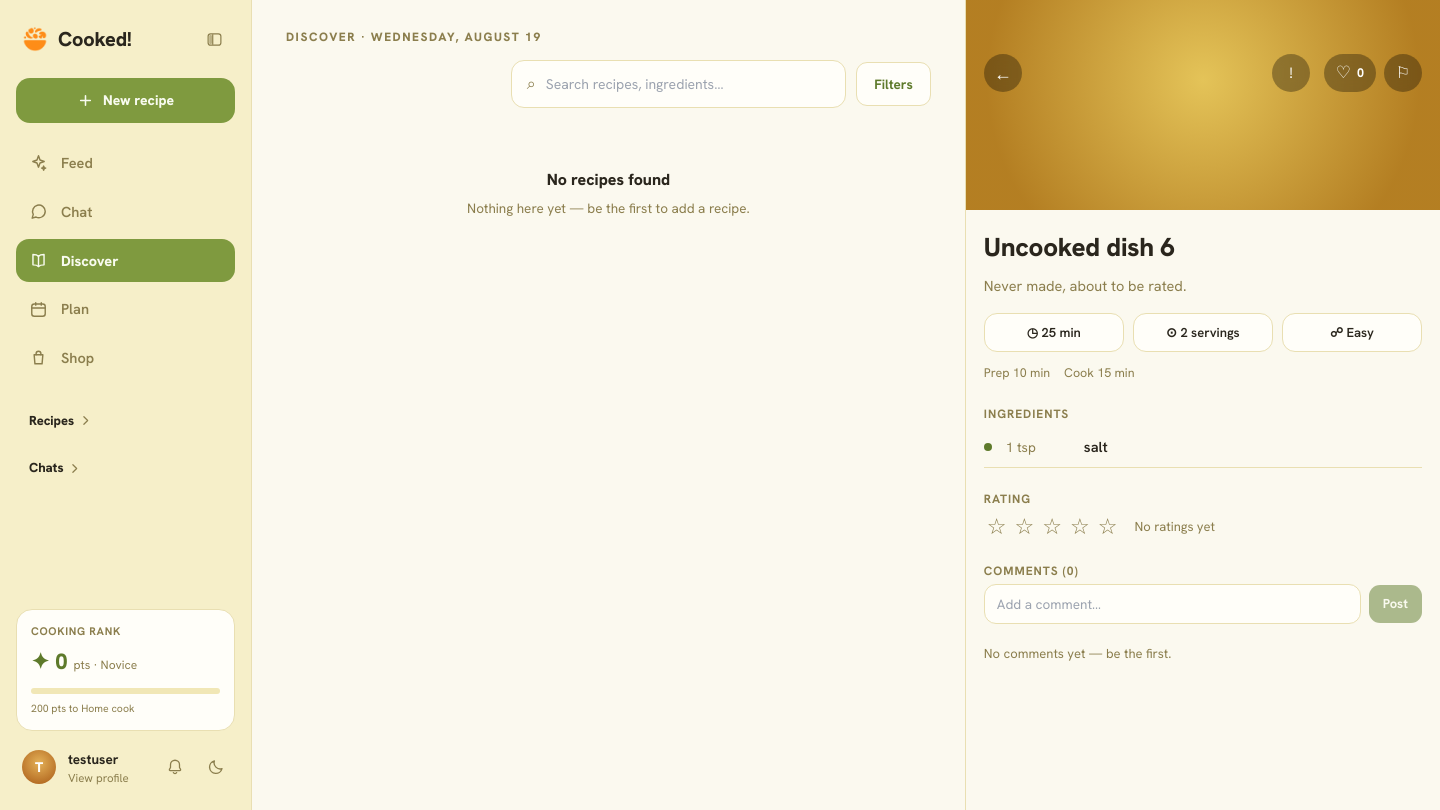
rating a recipe with no cook behind it › says the cook survived, and retries only the rating, when the rating fails after it
Expected: the text "No ratings yet" is shown, [1134, 517, 1215, 536]
Step 1. Click the button named "Rate 4 out of 5" → {"x": 1080, "y": 527}, box [1067, 514, 1093, 540]
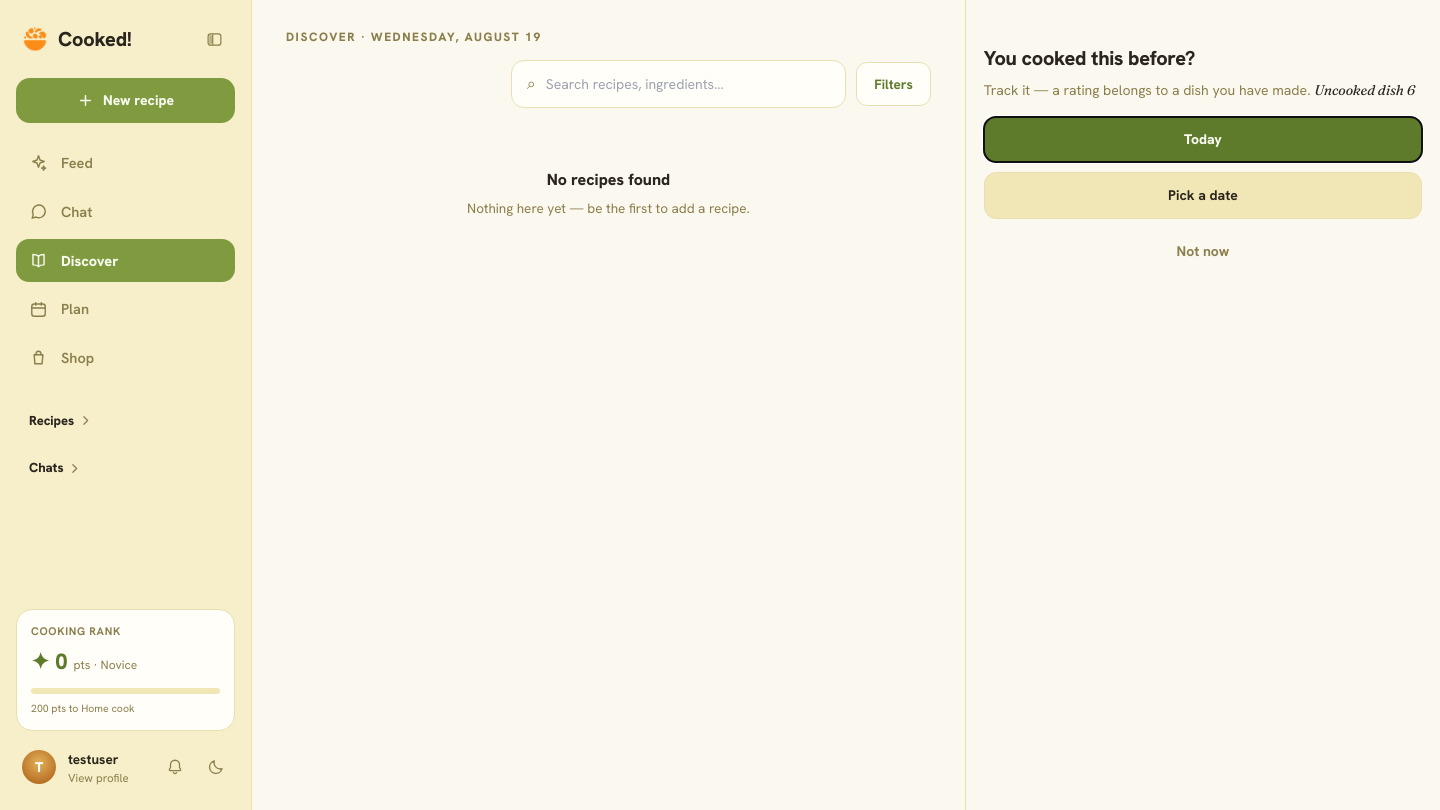
Step 2. Click the button "Today" → {"x": 1203, "y": 140}, box [984, 117, 1422, 162]
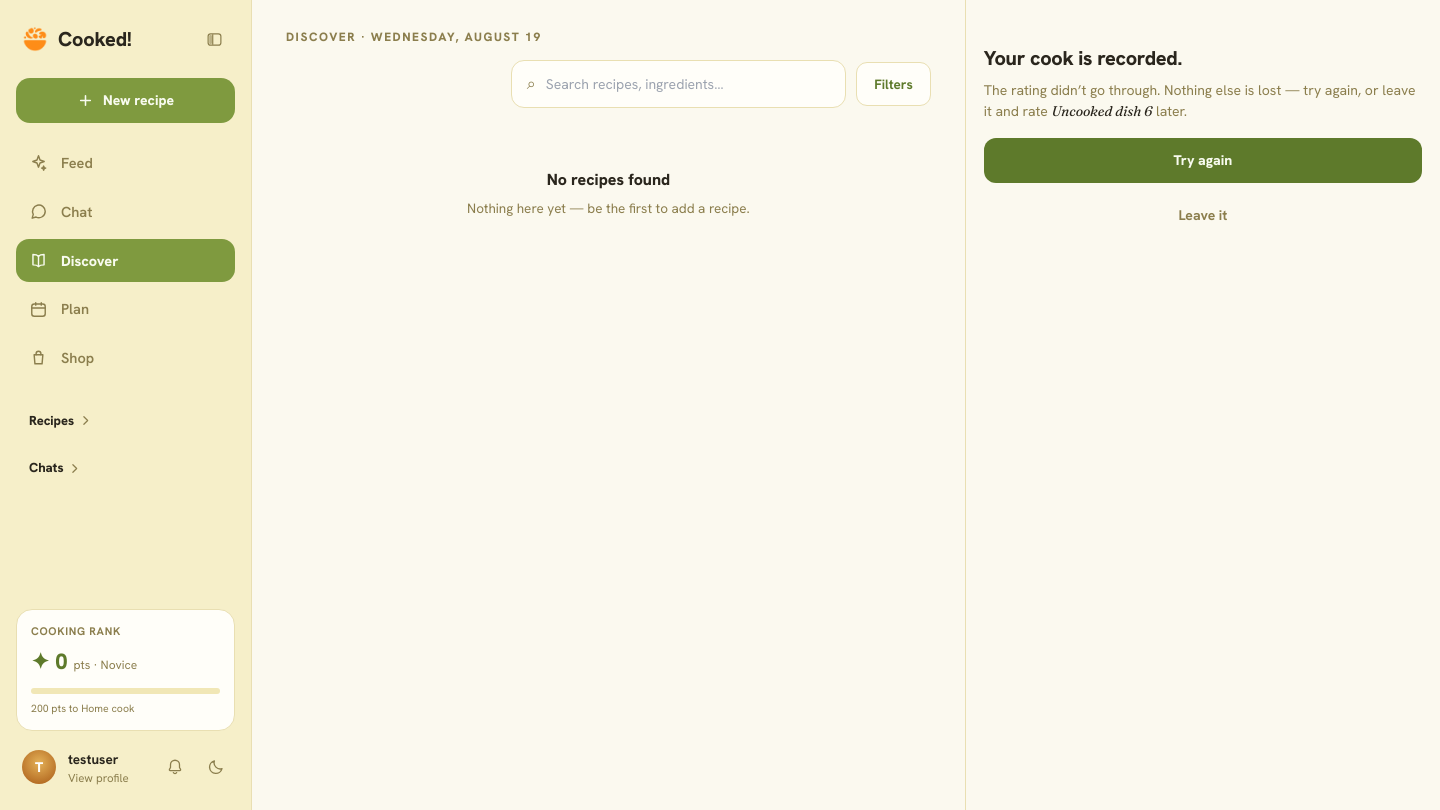
Expected: the heading "Your cook is recorded." is shown, [984, 45, 1182, 71]
Step 3. Click the button "Try again" → {"x": 1203, "y": 160}, box [984, 138, 1422, 183]
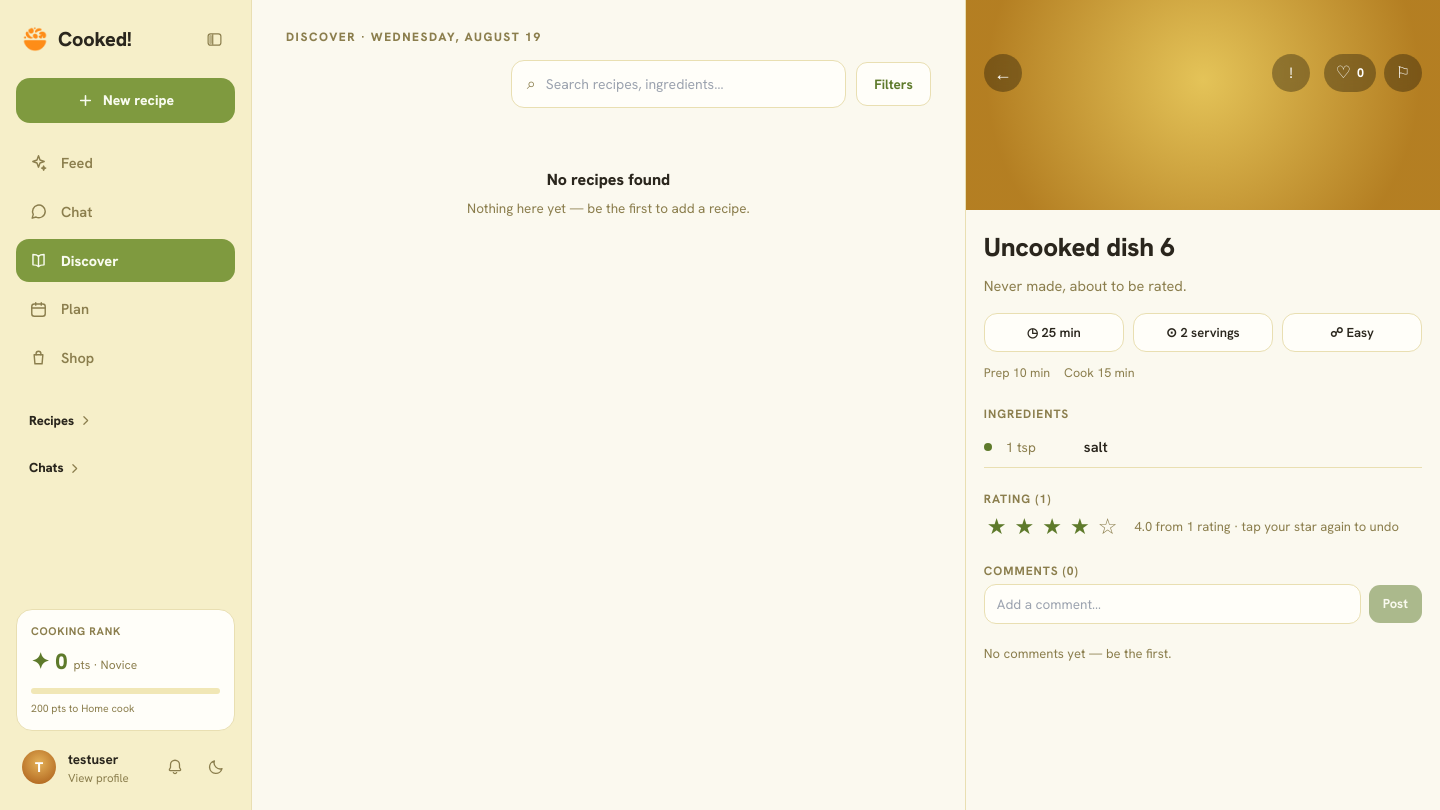
Expected: the heading "Your cook is recorded." is gone
